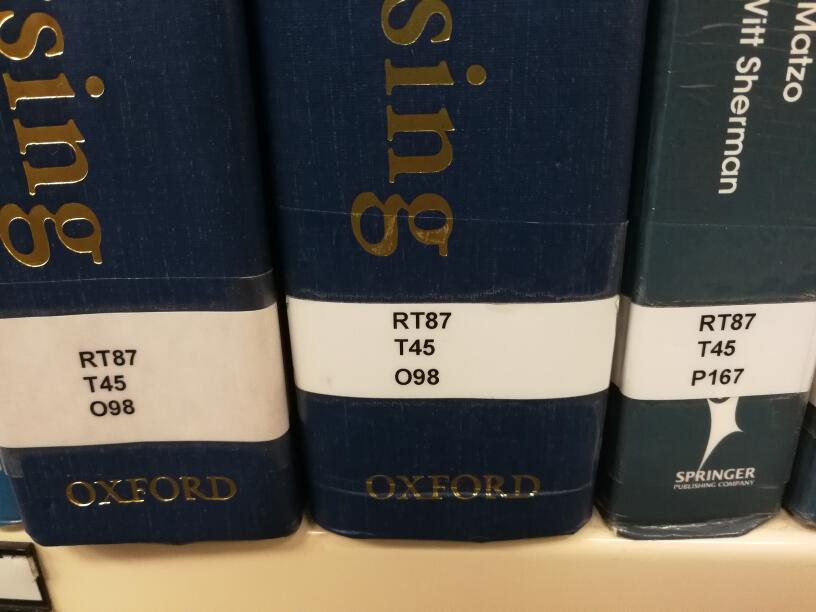booklabel: (687, 311, 758, 388), (389, 308, 453, 387), (76, 345, 142, 417)
